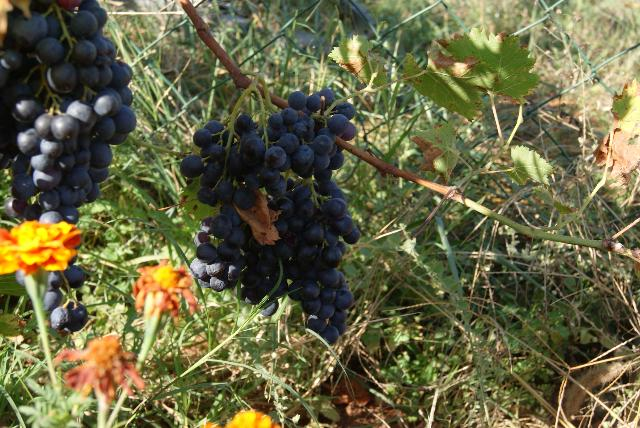grapes: (180, 91, 360, 342), (0, 0, 136, 224)
